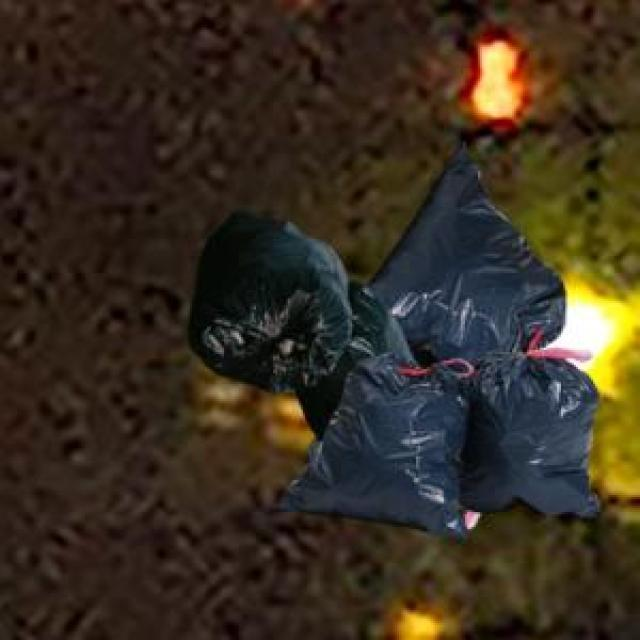Vinyl: (189, 149, 598, 536)
